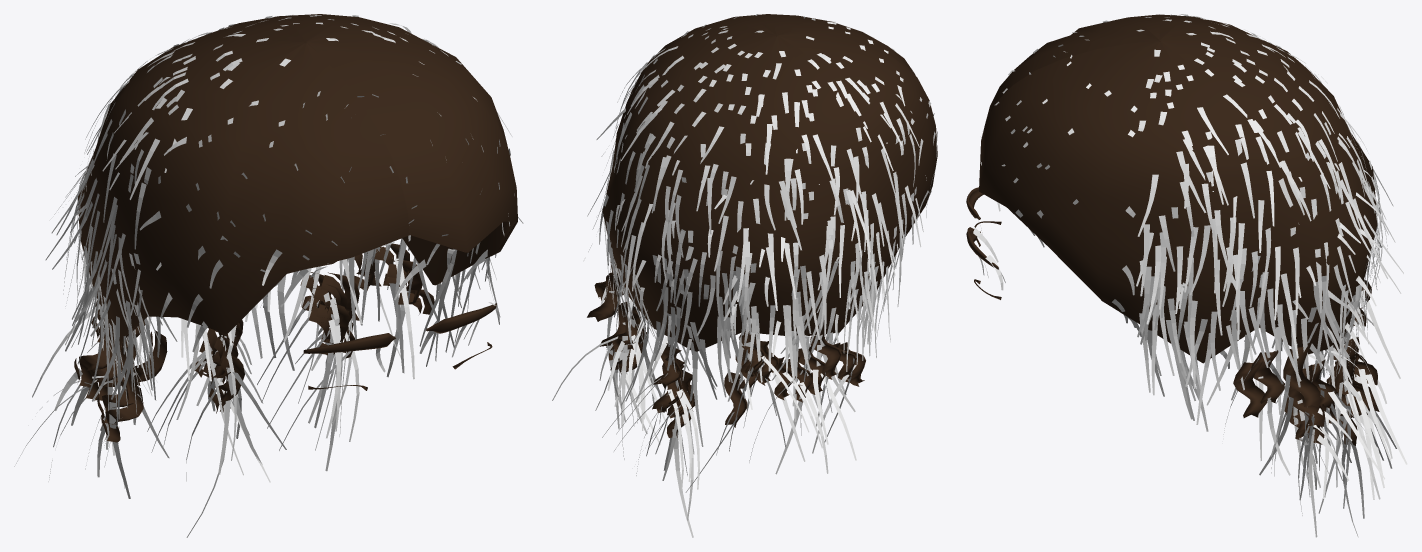
File: hair-warden-short.glb
3 views of the same model, side by side, from view 1: azimuth 30°, elevation 25°; view 2: azimuth 150°, elevation 25°; view 3: azimuth 270°, elevation 25° (orthographic). The views are drawn at different scales.
Visible parts, largest first — view 1: hair-warden-short_1, hair__strands; view 2: hair-warden-short_1, hair__strands; view 3: hair-warden-short_1, hair__strands.
Part boxes in pixels (x1,y1,x2,y2): hair-warden-short_1: (74, 14, 517, 442); hair__strands: (14, 15, 523, 537); hair-warden-short_1: (587, 14, 937, 437); hair__strands: (552, 14, 937, 537); hair-warden-short_1: (966, 14, 1379, 445); hair__strands: (973, 14, 1407, 537).
Bounding box in the file's own units: 0.2371 × 0.3211 × 0.2575.
